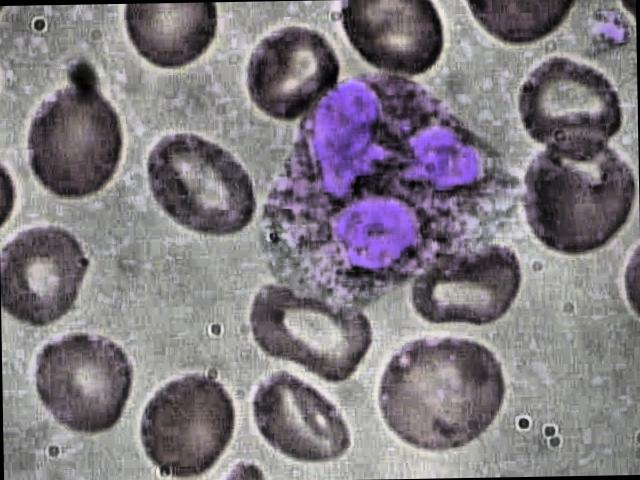RBC: (376, 328, 508, 452), (129, 119, 261, 243), (11, 77, 143, 201), (520, 133, 640, 258), (243, 280, 384, 382), (508, 46, 628, 156), (133, 364, 244, 479), (247, 364, 358, 479), (28, 325, 138, 439), (409, 238, 531, 330), (0, 221, 104, 327), (244, 19, 340, 124), (121, 2, 223, 82), (344, 0, 446, 77)
WBC: (227, 64, 513, 298)
